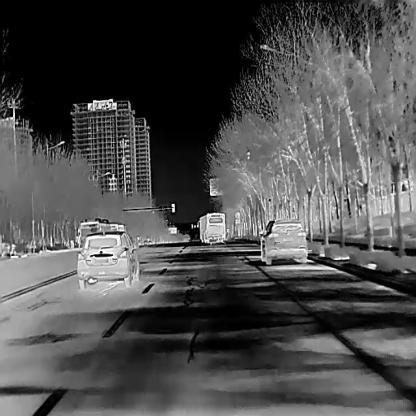car: (78, 230, 139, 288), (260, 219, 307, 263), (79, 219, 110, 246), (199, 212, 225, 242), (109, 222, 126, 232)
